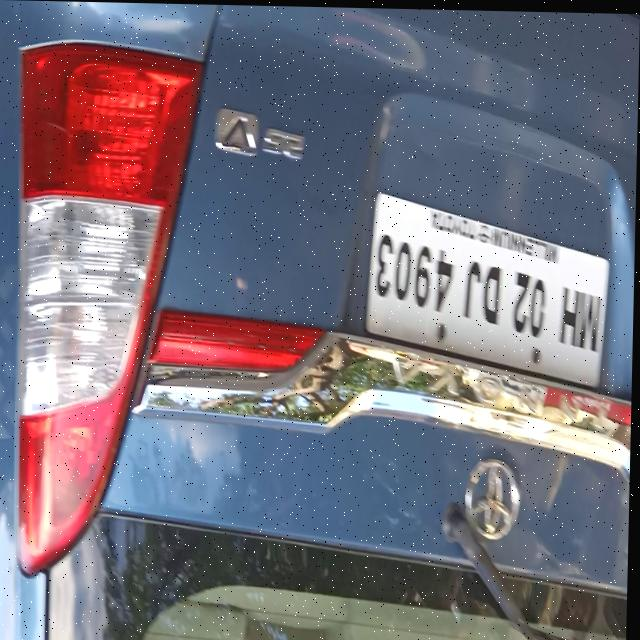plate: (364, 186, 613, 387)
